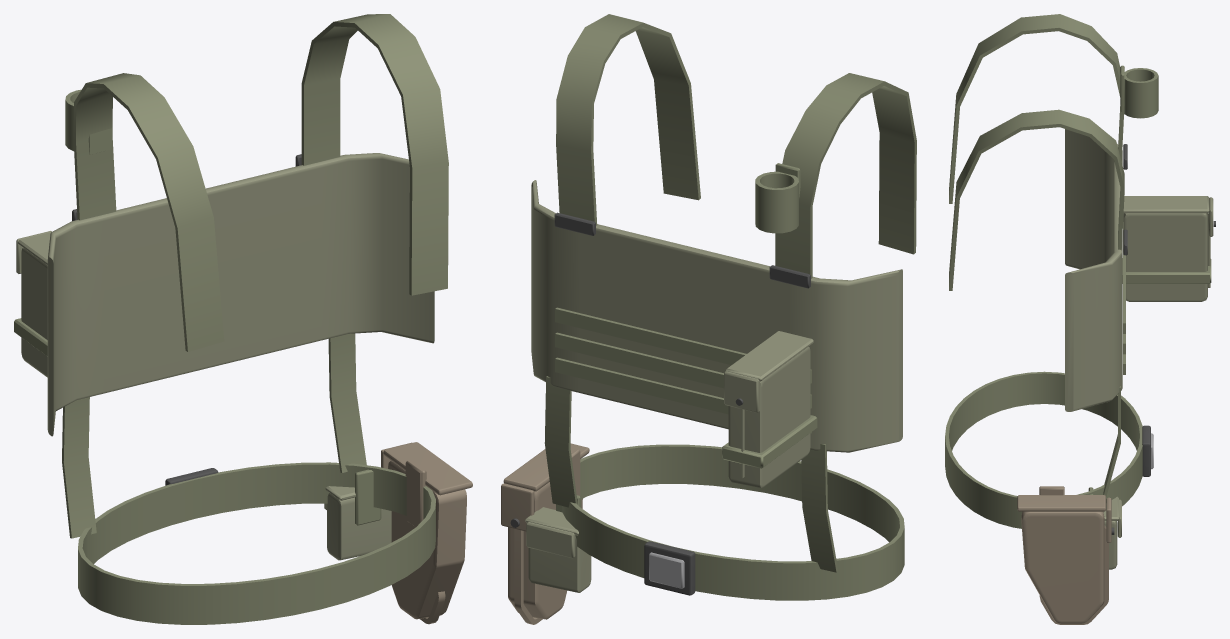
File: rig.glb
The picture shows the model from 3 angles, left to right: view 1: azimuth 30°, elevation 25°; view 2: azimuth 150°, elevation 25°; view 3: azimuth 270°, elevation 25°; orthographic projection. The views are drawn at different scales.
Visible parts, largest first — view 1: harness_panel, harness, holster, pocket, pouch, holster_flap_closed, mount, pouch_flap_closed; view 2: harness_panel, harness, pouch, holster, pouch_flap_closed, mount, holster_flap_closed, pocket, pocket_flap_closed; view 3: harness_panel, harness, holster, pouch, mount, holster_flap_closed, pouch_flap_closed, pocket.
Part boxes in pixels (bbox=[...]): harness_panel: bbox=[47, 14, 448, 436]; harness: bbox=[62, 333, 435, 624]; holster: bbox=[388, 460, 466, 624]; pocket: bbox=[327, 469, 391, 560]; pouch: bbox=[14, 248, 47, 377]; holster_flap_closed: bbox=[381, 442, 472, 495]; mount: bbox=[65, 89, 112, 154]; pouch_flap_closed: bbox=[16, 231, 51, 273]; harness_panel: bbox=[531, 14, 916, 452]; harness: bbox=[544, 376, 904, 600]; pouch: bbox=[722, 347, 817, 487]; holster: bbox=[508, 449, 582, 624]; pouch_flap_closed: bbox=[724, 331, 813, 412]; mount: bbox=[755, 163, 800, 233]; holster_flap_closed: bbox=[501, 443, 589, 531]; pocket: bbox=[528, 495, 591, 592]; pocket_flap_closed: bbox=[525, 507, 578, 558]; harness_panel: bbox=[949, 14, 1127, 411]; harness: bbox=[945, 371, 1153, 528]; holster: bbox=[1021, 486, 1108, 624]; pouch: bbox=[1122, 213, 1211, 301]; mount: bbox=[1120, 65, 1158, 118]; holster_flap_closed: bbox=[1017, 495, 1114, 542]; pouch_flap_closed: bbox=[1123, 196, 1215, 236]; pocket: bbox=[1088, 487, 1117, 569].
Size of the model in its own units: 0.471 by 0.7136 by 0.361.
